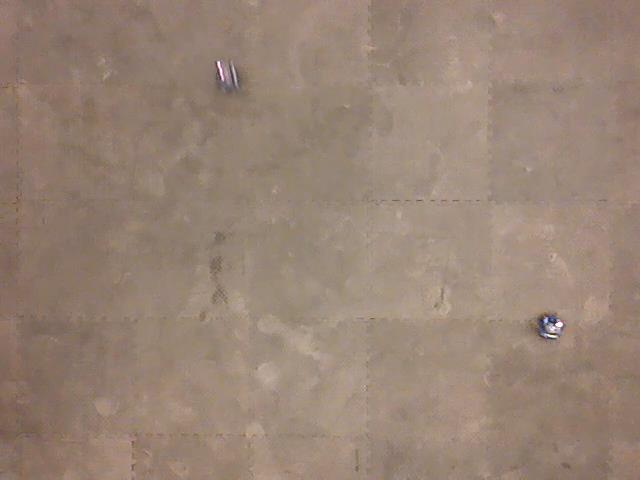Agent: (212, 56, 243, 97), (534, 311, 567, 343)
